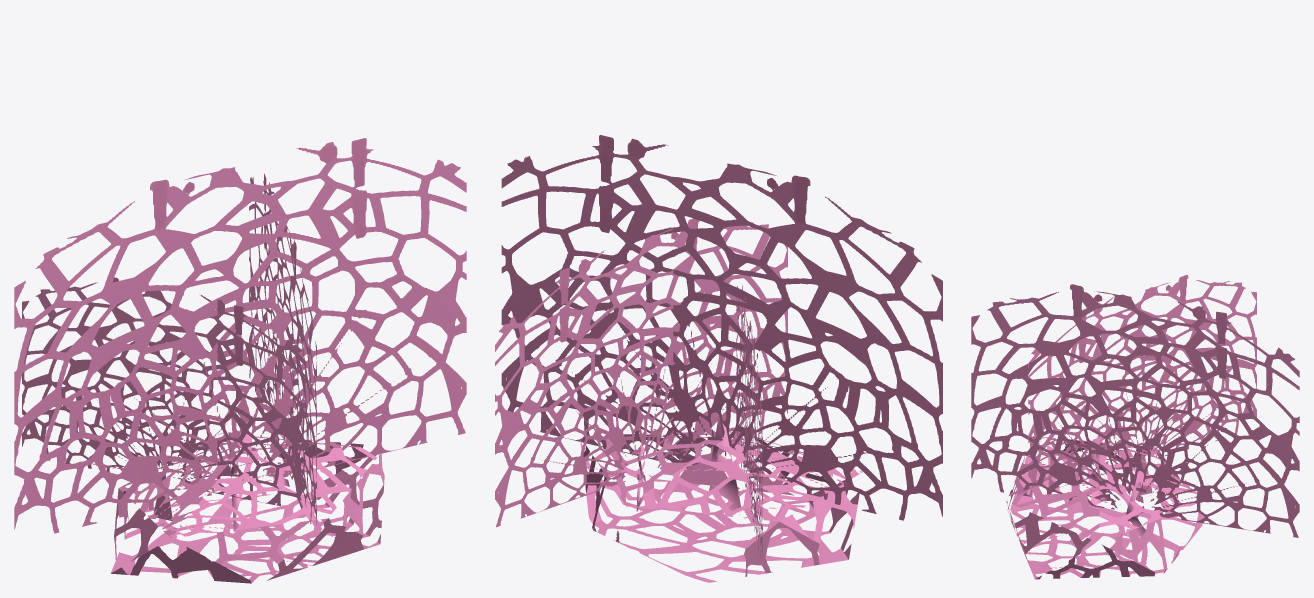
The model's file is coral_fan_a_lod1.gltf.
3 renders of one model, left to right at view 1: azimuth 30°, elevation 25°; view 2: azimuth 150°, elevation 25°; view 3: azimuth 270°, elevation 25°, orthographic. The views are drawn at different scales.
Parts seen in each view (by area): view 1: coral_fan_a_LOD1; view 2: coral_fan_a_LOD1; view 3: coral_fan_a_LOD1.
Part boxes in pixels (x1=…): coral_fan_a_LOD1: x1=14, y1=138, x2=466, y2=583; coral_fan_a_LOD1: x1=495, y1=135, x2=942, y2=582; coral_fan_a_LOD1: x1=971, y1=275, x2=1299, y2=579.
Bounding box in the file's own units: 1.3 × 1.3 × 0.9162.
Materials: 1 (1 with a texture image).
